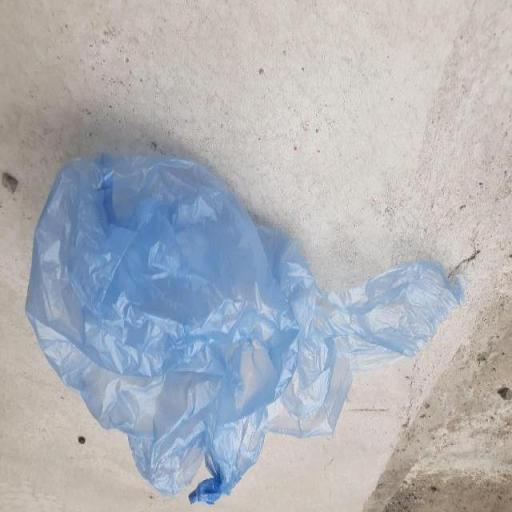plastic-bag: (24, 154, 465, 511)
